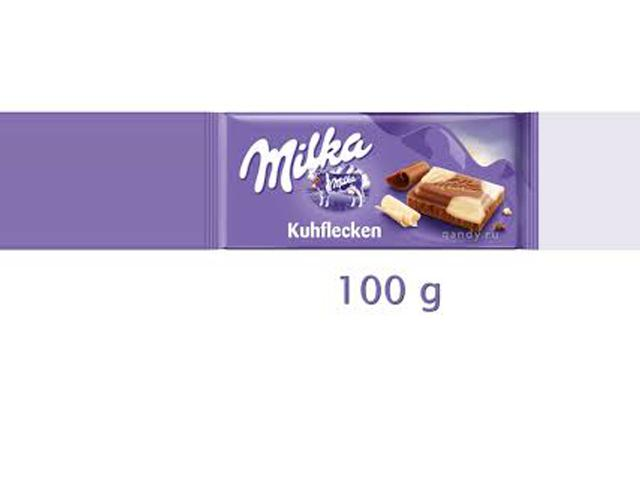chocolate: (206, 106, 540, 270)
